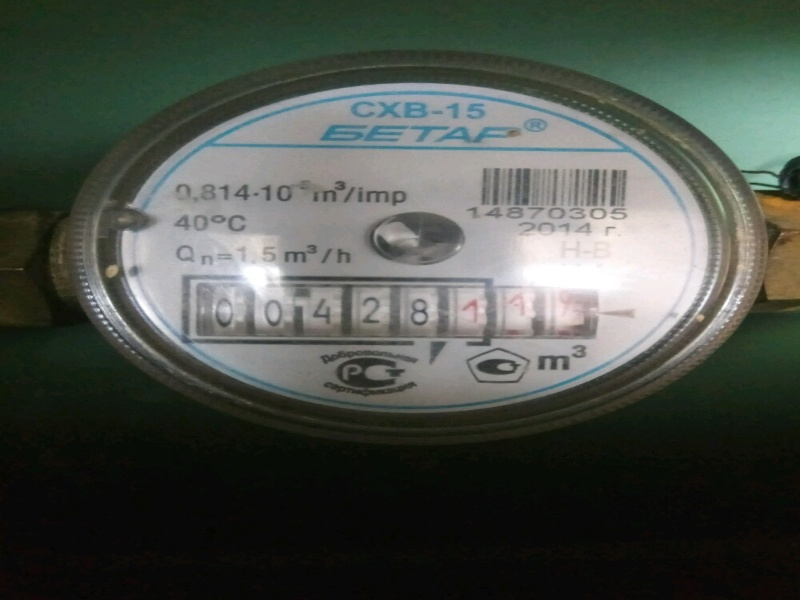meter: (191, 277, 603, 339)
